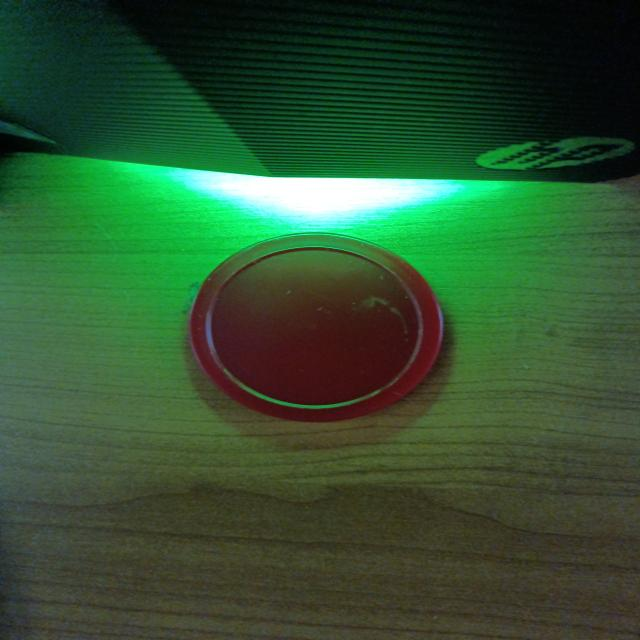chip: (188, 233, 443, 421)
